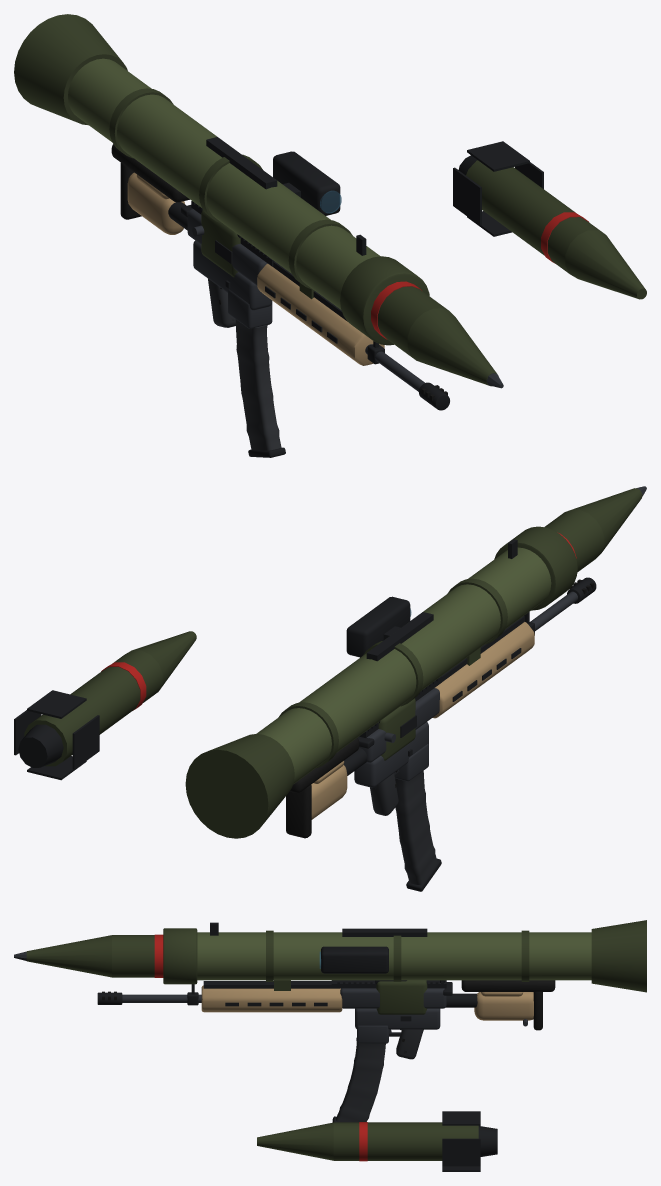
File: weapons.glb
The picture shows the model from 3 angles, top to bottom: view 1: azimuth 30°, elevation 25°; view 2: azimuth 150°, elevation 25°; view 3: azimuth 270°, elevation 25°; orthographic projection. The views are drawn at different scales.
Visible parts, largest first — view 1: LauncherFP, RifleFP, Rocket, WarheadFP, MagazineFP; view 2: LauncherFP, RifleFP, Rocket, WarheadFP, MagazineFP; view 3: LauncherFP, RifleFP, Rocket, WarheadFP, MagazineFP.
Boxes of the visible parts, x1=… form: LauncherFP: x1=14, y1=14, x2=429, y2=345; RifleFP: x1=120, y1=163, x2=449, y2=410; Rocket: x1=453, y1=141, x2=646, y2=299; WarheadFP: x1=371, y1=281, x2=503, y2=388; MagazineFP: x1=235, y1=319, x2=285, y2=457; LauncherFP: x1=185, y1=526, x2=577, y2=838; RifleFP: x1=286, y1=577, x2=596, y2=838; Rocket: x1=14, y1=631, x2=196, y2=780; WarheadFP: x1=544, y1=486, x2=646, y2=572; MagazineFP: x1=395, y1=771, x2=441, y2=891; LauncherFP: x1=163, y1=920, x2=646, y2=1059; RifleFP: x1=97, y1=980, x2=542, y2=1053; Rocket: x1=257, y1=1111, x2=497, y2=1171; WarheadFP: x1=14, y1=934, x2=163, y2=977; MagazineFP: x1=332, y1=1037, x2=385, y2=1122.
Size of the model in its own units: 0.747 by 0.5423 by 1.48.
